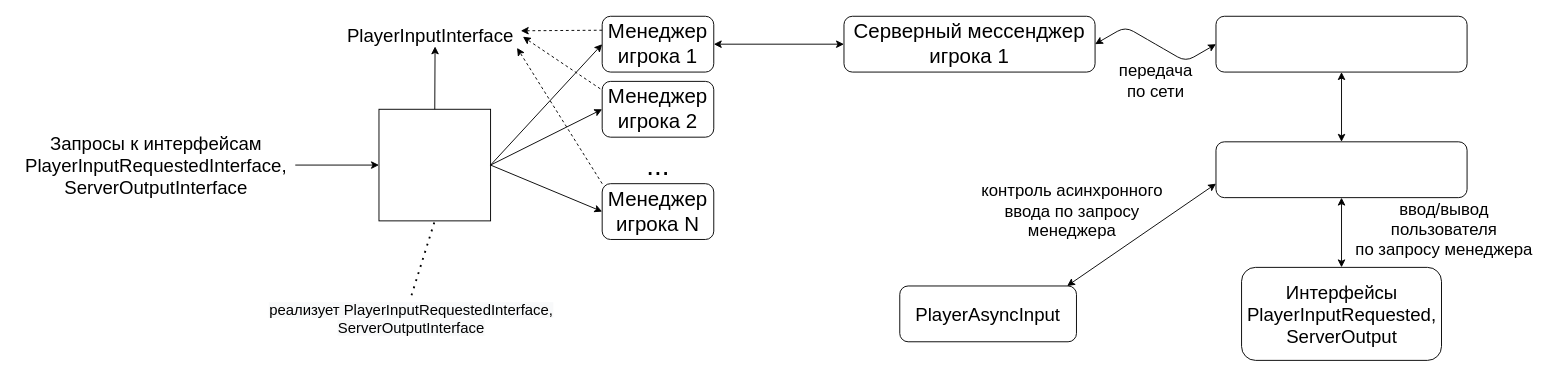
Image size: 1557x377. Some labels were removed from this diagram. Here are the shapes that lost their labels. From the top down, the centre of each, then its label:
At [1341,43]: "Клиентский мессенджер игрока 1".
At [434,164]: "Диспетчер игроков".
At [1341,169]: "Менеджер клиента игрока 1".
